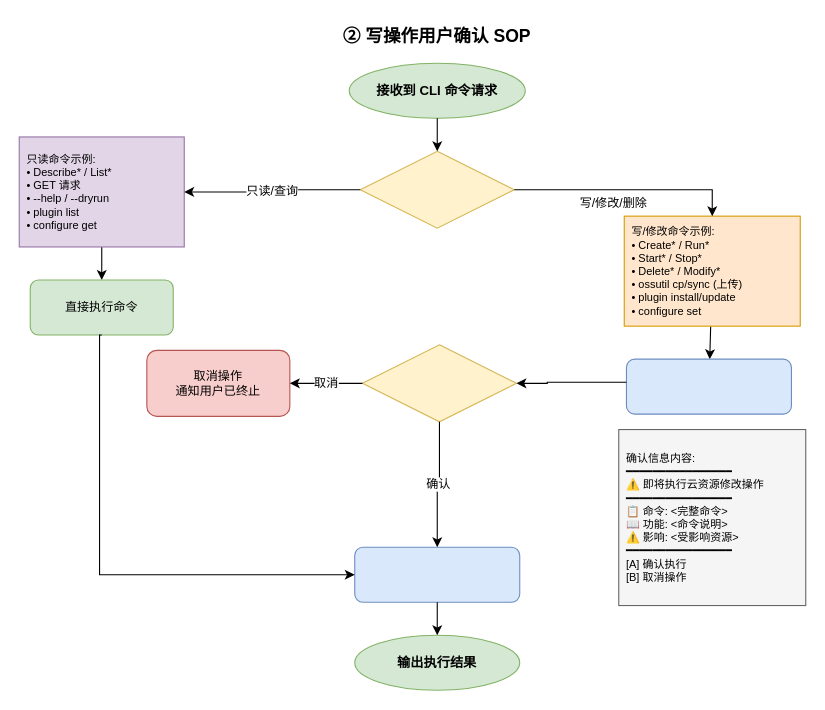
Image size: 825x710. Some labels were removed from this diagram. Each missing label, with the box of its shape:
向用户展示确认信息: (625, 358, 791, 414)
命令类型判断: (359, 150, 514, 228)
执行云资源操作命令: (354, 546, 520, 602)
用户选择?: (361, 344, 516, 422)
